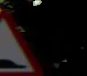Speed Breaker ahead: (0, 5, 49, 75)
